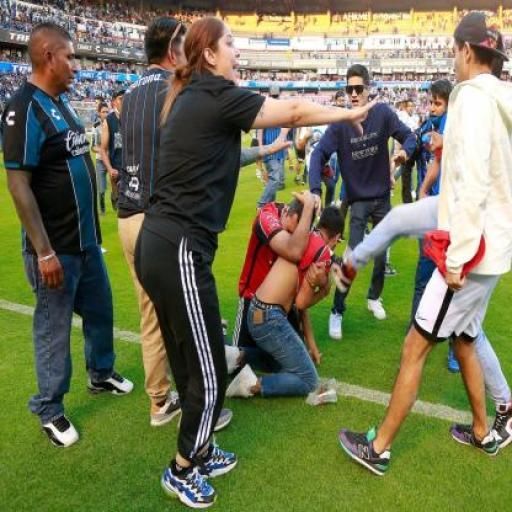Fighting: (144, 13, 510, 507)
